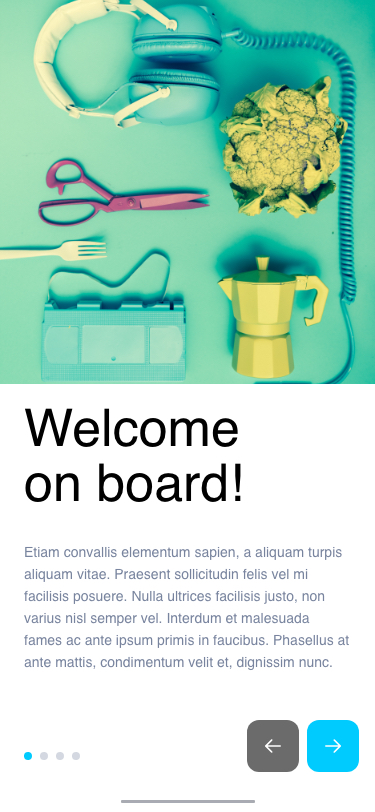Icon: (247, 720, 300, 772), (307, 720, 360, 772)
Image: (1, 1, 375, 385)
PageIndicator: (24, 751, 82, 761)
Text: (24, 546, 350, 671), (24, 407, 243, 504)
